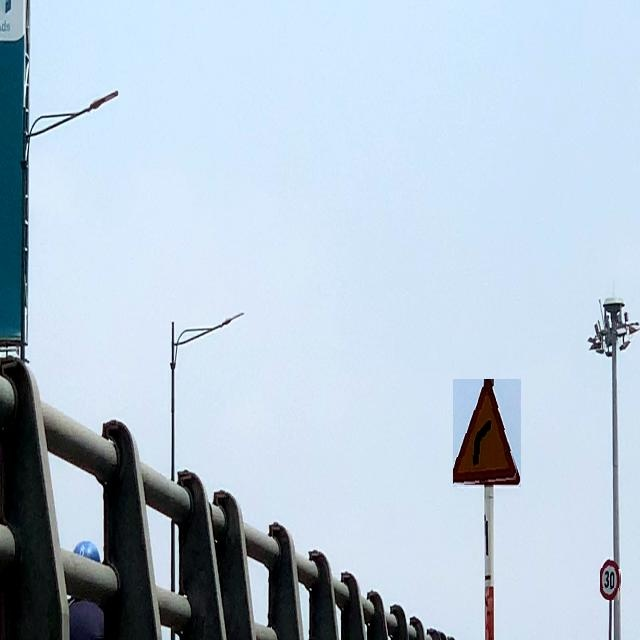bien_cam: (453, 380, 521, 488), (600, 558, 621, 600)
